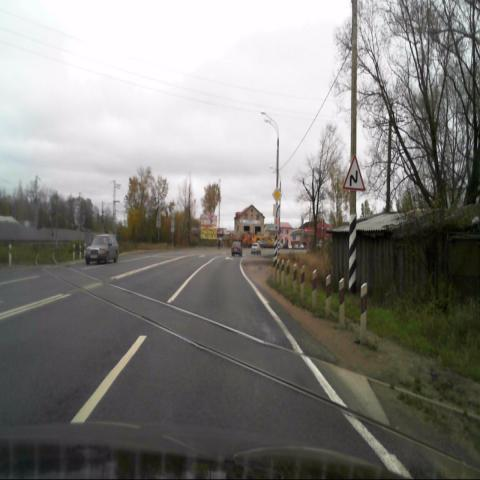1_12: (343, 154, 365, 191)
